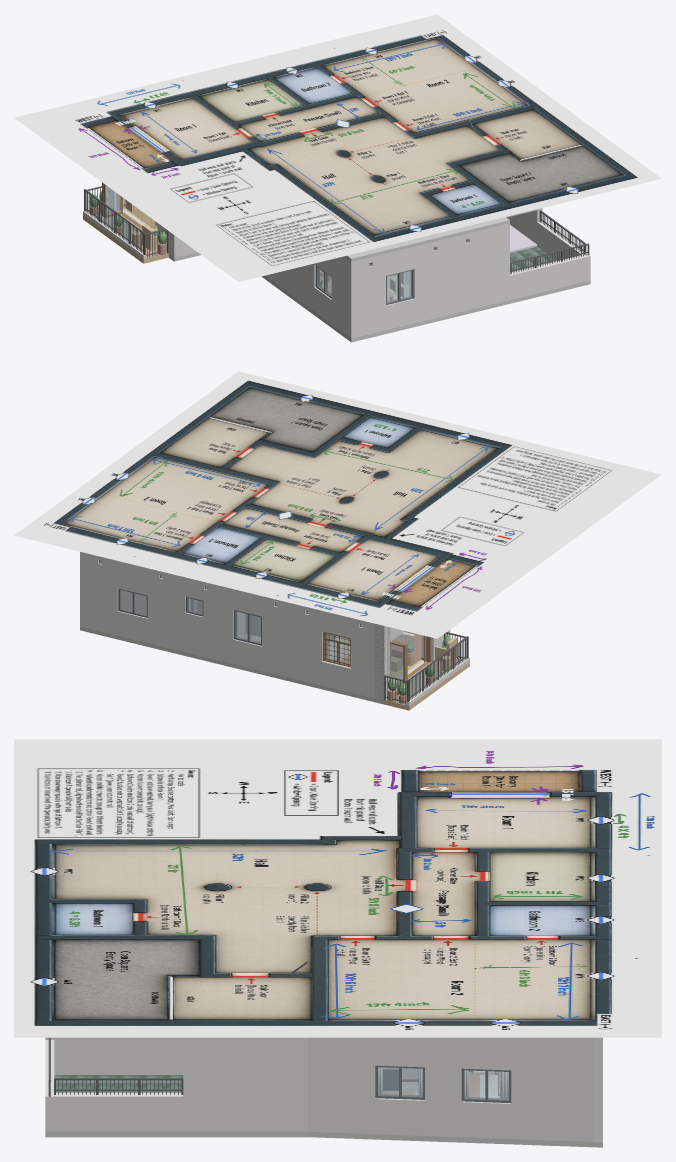
The model's file is MyFlat_V2_Room1_OPTION_C.glb.
3 views of the same model, one above another, from view 1: azimuth 30°, elevation 25°; view 2: azimuth 150°, elevation 25°; view 3: azimuth 270°, elevation 25° (orthographic). The views are drawn at different scales.
Parts seen in each view (by area): view 1: PLAN_REFERENCE_OVERLAY, WALL_EXT_S_HALL, WALL_EXT_W_HALL, PARAPET_OPENSQ_S, SLAB_FLOOR_STRUCTURAL, BALCONY_RAILING_W, SLAB_ROOF, PARAPET_OPENSQ_E, RAILING_OPENSQ_S, WALL_EXT_E_STAIR, HBB_OPENSQ_FINISH, WINDOW_W7_GLASS (+1 smaller); view 2: PLAN_REFERENCE_OVERLAY, WALL_EXT_N_R1, WALL_EXT_N_R2, WALL_EXT_N_KIT, WALL_EXT_N_B2, BALCONY_RAILING_W, SLAB_FLOOR_STRUCTURAL, PILLAR_R1_NW, WINDOW_W2_GLASS, WALL_EXT_W_R1_BALCONY, R1_OPC_BALCONY_CURTAIN_SHEER; view 3: PLAN_REFERENCE_OVERLAY, WALL_EXT_E_R2_TAPERED, WALL_EXT_E_STAIR, PARAPET_OPENSQ_E, WALL_INT_OPENSQ_W, SLAB_FLOOR_STRUCTURAL, HBB_OPENSQ_FINISH, WINDOW_W5_GLASS, WINDOW_W6_GLASS, RAILING_OPENSQ_E, WALL_EXT_N_R2, PARAPET_OPENSQ_S (+2 smaller).
Part boxes in pixels (bbox=[...]): PLAN_REFERENCE_OVERLAY: bbox=[14, 14, 661, 281]; WALL_EXT_S_HALL: bbox=[348, 223, 509, 338]; WALL_EXT_W_HALL: bbox=[265, 256, 356, 338]; PARAPET_OPENSQ_S: bbox=[510, 254, 590, 299]; SLAB_FLOOR_STRUCTURAL: bbox=[168, 252, 590, 342]; BALCONY_RAILING_W: bbox=[84, 189, 145, 254]; SLAB_ROOF: bbox=[344, 217, 509, 261]; PARAPET_OPENSQ_E: bbox=[537, 221, 587, 260]; RAILING_OPENSQ_S: bbox=[510, 243, 589, 274]; WALL_EXT_E_STAIR: bbox=[507, 208, 542, 244]; HBB_OPENSQ_FINISH: bbox=[510, 246, 556, 272]; WINDOW_W7_GLASS: bbox=[387, 271, 411, 302]; PLAN_REFERENCE_OVERLAY: bbox=[14, 371, 661, 638]; WALL_EXT_N_R1: bbox=[283, 601, 387, 700]; WALL_EXT_N_R2: bbox=[80, 553, 176, 649]; WALL_EXT_N_KIT: bbox=[211, 584, 283, 676]; WALL_EXT_N_B2: bbox=[177, 575, 211, 658]; BALCONY_RAILING_W: bbox=[407, 636, 468, 701]; SLAB_FLOOR_STRUCTURAL: bbox=[80, 626, 384, 704]; PILLAR_R1_NW: bbox=[374, 623, 390, 700]; WINDOW_W2_GLASS: bbox=[236, 611, 260, 642]; WALL_EXT_W_R1_BALCONY: bbox=[375, 624, 449, 698]; R1_OPC_BALCONY_CURTAIN_SHEER: bbox=[394, 631, 421, 668]; PLAN_REFERENCE_OVERLAY: bbox=[14, 739, 661, 1037]; WALL_EXT_E_R2_TAPERED: bbox=[307, 1037, 594, 1141]; WALL_EXT_E_STAIR: bbox=[183, 1037, 307, 1131]; PARAPET_OPENSQ_E: bbox=[54, 1093, 183, 1131]; WALL_INT_OPENSQ_W: bbox=[54, 1037, 183, 1074]; SLAB_FLOOR_STRUCTURAL: bbox=[45, 1131, 602, 1147]; HBB_OPENSQ_FINISH: bbox=[54, 1075, 183, 1092]; WINDOW_W5_GLASS: bbox=[464, 1070, 508, 1099]; WINDOW_W6_GLASS: bbox=[378, 1067, 422, 1096]; RAILING_OPENSQ_E: bbox=[54, 1078, 183, 1094]; WALL_EXT_N_R2: bbox=[594, 1037, 602, 1142]; PARAPET_OPENSQ_S: bbox=[45, 1040, 54, 1131].
Size of what is drawn, in the model's own units: 18.03 by 4.33 by 16.55.
127 materials, 7 textured.
